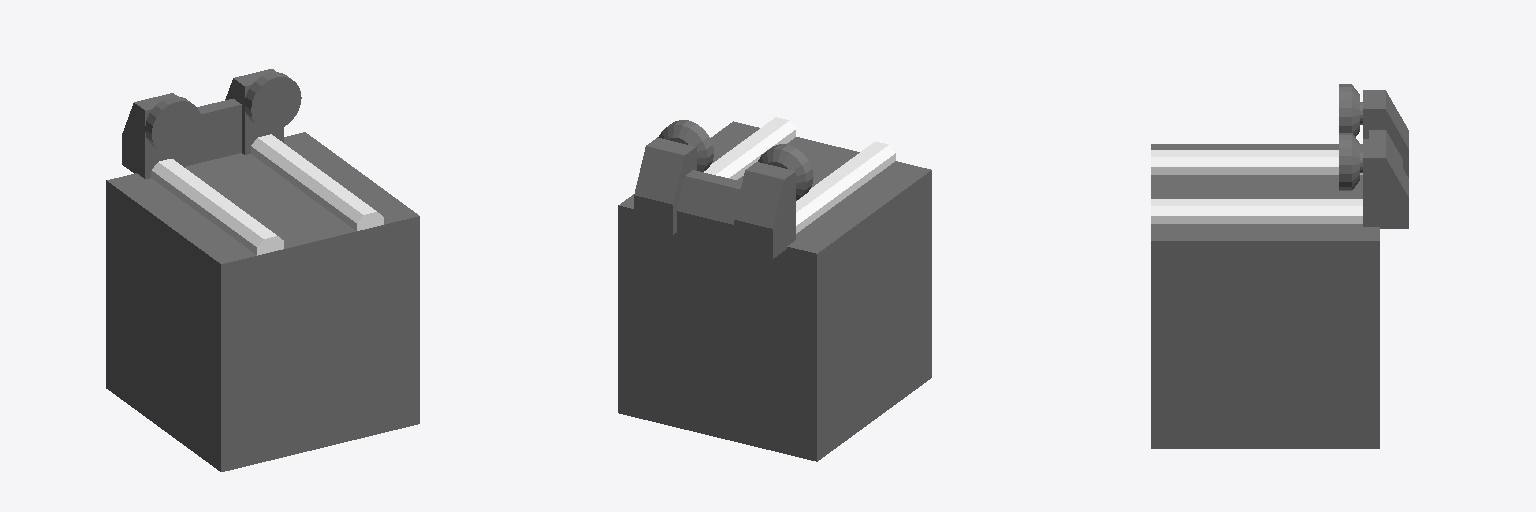
File: BlockerBlock.obj
The picture shows the model from 3 angles: view 1: azimuth 30°, elevation 25°; view 2: azimuth 150°, elevation 25°; view 3: azimuth 270°, elevation 25°; orthographic projection.
Parts seen in each view (by area): view 1: Blocker; view 2: Blocker; view 3: Blocker.
Part boxes in pixels (bbox=[...]): Blocker: bbox=[106, 69, 419, 471]; Blocker: bbox=[618, 117, 931, 461]; Blocker: bbox=[1151, 84, 1408, 448].
Size of the model in its own units: 1 by 1.39 by 1.13.